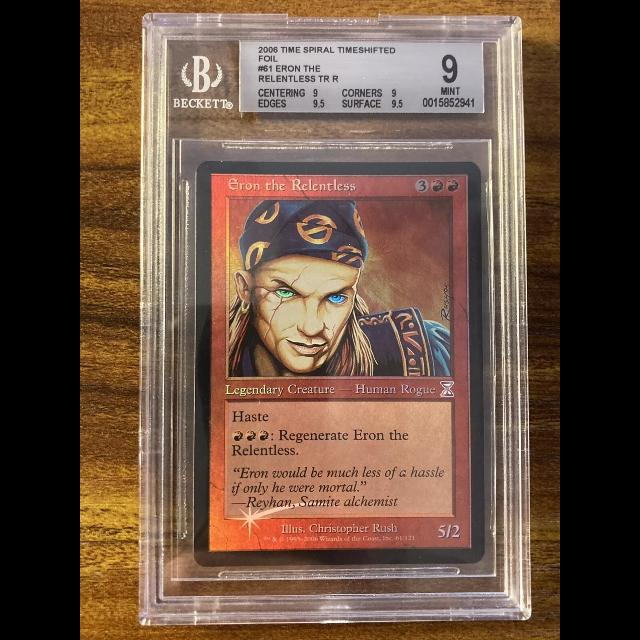bgs_label: (239, 40, 485, 114)
bgs_slab: (137, 12, 532, 625)
card: (192, 160, 486, 567)
